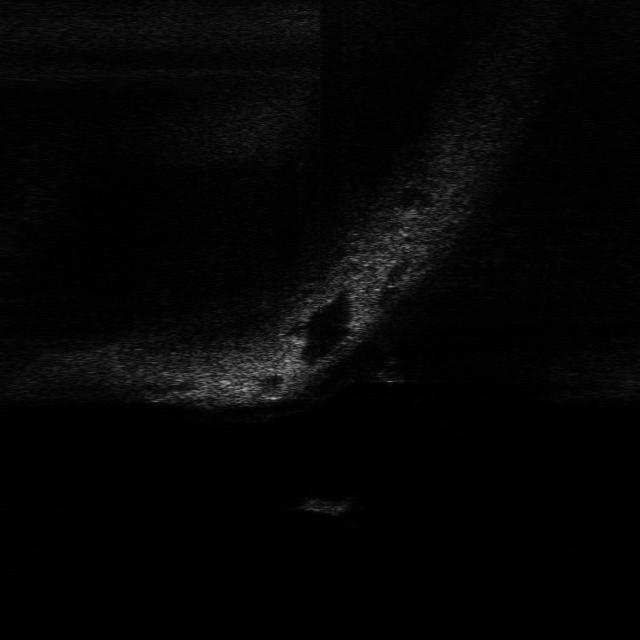ball: (372, 358, 409, 386)
cube: (292, 495, 361, 518)
